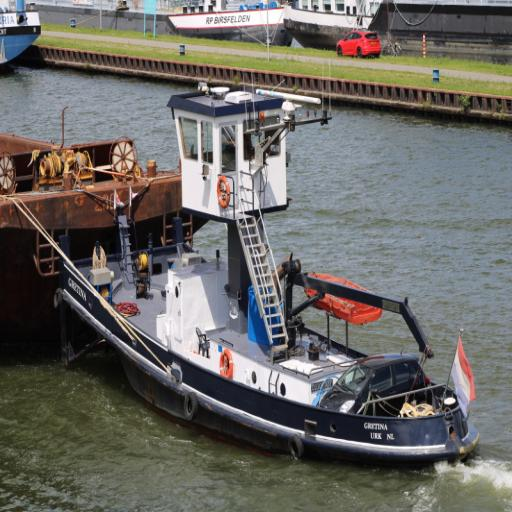tugboat: (55, 79, 484, 485)
